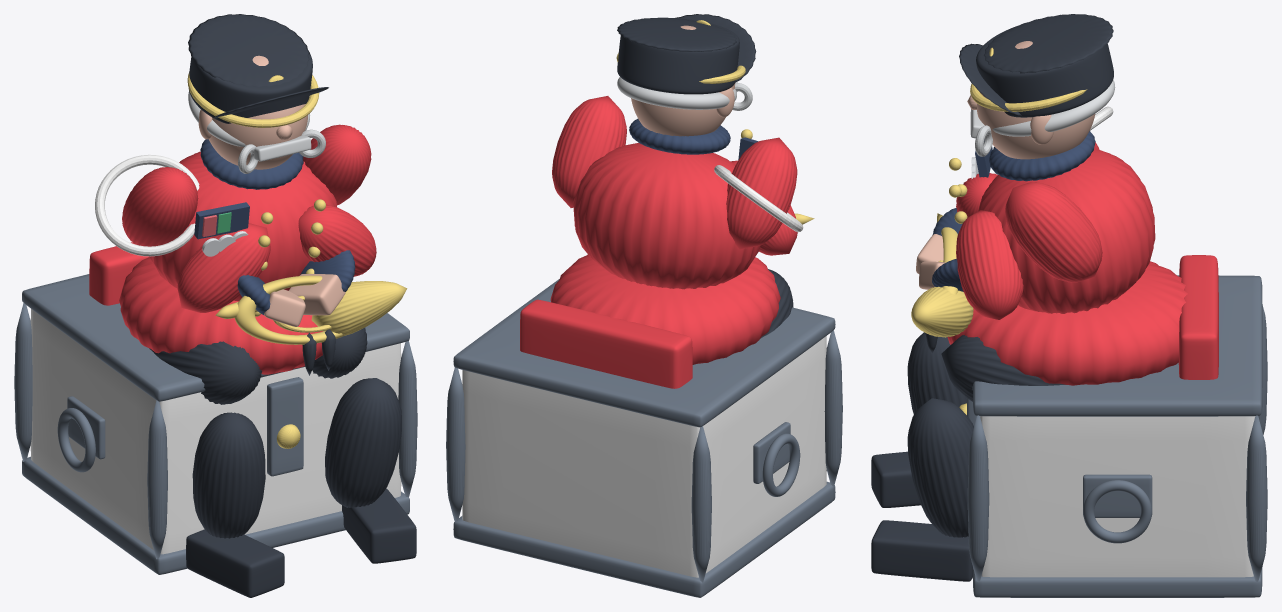
File: antique_past_glory.glb
3 views of the same model, side by side, from view 1: azimuth 30°, elevation 25°; view 2: azimuth 150°, elevation 25°; view 3: azimuth 270°, elevation 25° (orthographic). The views are drawn at different scales.
Visible parts, largest first — view 1: Chest_WoodBody, Chest_LidRim, Pensioner_CoatSkirt, Pensioner_Torso, Pensioner_R_Shin, Pensioner_L_Shin, Pensioner_CapTopPlate, Chest_BaseRim, Pensioner_Boot_L, Pensioner_L_ForeArm, Pensioner_L_UpperArm, Pensioner_L_Thigh (+26 smaller); view 2: Chest_WoodBody, Pensioner_Torso, Chest_LidRim, Pensioner_CoatSkirt, Pensioner_CoatTails, Chest_BaseRim, Pensioner_L_UpperArm, Pensioner_CapCrown, Pensioner_R_UpperArm, Pensioner_CapTopPlate, Chest_Corner_1, Chest_Corner_0 (+10 smaller); view 3: Chest_WoodBody, Pensioner_CoatSkirt, Chest_LidRim, Pensioner_Torso, Pensioner_R_Shin, Pensioner_R_UpperArm, Chest_BaseRim, Pensioner_R_ForeArm, Pensioner_CapTopPlate, Pensioner_CapCrown, Pensioner_Boot_R, Pensioner_CoatTails (+18 smaller).
Boxes of the visible parts, <box> form: Chest_WoodBody: <box>30,309,401,554</box>; Chest_LidRim: <box>22,274,409,401</box>; Pensioner_CoatSkirt: <box>119,257,322,374</box>; Pensioner_Torso: <box>149,151,337,301</box>; Pensioner_R_Shin: <box>325,378,401,507</box>; Pensioner_L_Shin: <box>192,412,265,538</box>; Pensioner_CapTopPlate: <box>188,14,309,86</box>; Chest_BaseRim: <box>22,456,409,574</box>; Pensioner_Boot_L: <box>186,529,284,597</box>; Pensioner_L_ForeArm: <box>177,223,270,312</box>; Pensioner_L_UpperArm: <box>122,167,198,246</box>; Pensioner_L_Thigh: <box>149,341,261,404</box>; Chest_WoodBody: <box>462,336,826,577</box>; Pensioner_Torso: <box>573,143,760,289</box>; Chest_LidRim: <box>453,279,835,427</box>; Pensioner_CoatSkirt: <box>550,254,780,364</box>; Pensioner_CoatTails: <box>520,299,692,388</box>; Chest_BaseRim: <box>453,481,835,597</box>; Pensioner_L_UpperArm: <box>726,137,797,249</box>; Pensioner_CapCrown: <box>617,17,739,94</box>; Pensioner_R_UpperArm: <box>552,96,626,207</box>; Pensioner_CapTopPlate: <box>617,18,736,51</box>; Chest_Corner_1: <box>691,426,711,582</box>; Chest_Corner_0: <box>446,367,465,521</box>; Chest_WoodBody: <box>980,416,1255,577</box>; Pensioner_CoatSkirt: <box>947,261,1187,385</box>; Chest_LidRim: <box>972,275,1262,416</box>; Pensioner_Torso: <box>978,148,1155,313</box>; Pensioner_R_Shin: <box>907,398,973,537</box>; Pensioner_R_UpperArm: <box>1005,182,1102,282</box>; Chest_BaseRim: <box>973,566,1262,597</box>; Pensioner_R_ForeArm: <box>956,210,1023,319</box>; Pensioner_CapTopPlate: <box>984,14,1113,73</box>; Pensioner_CapCrown: <box>976,25,1113,117</box>; Pensioner_Boot_R: <box>871,520,972,581</box>; Pensioner_CoatTails: <box>1178,255,1218,379</box>.
Bounding box in the file's own units: 0.1198 × 0.1921 × 0.1367.
